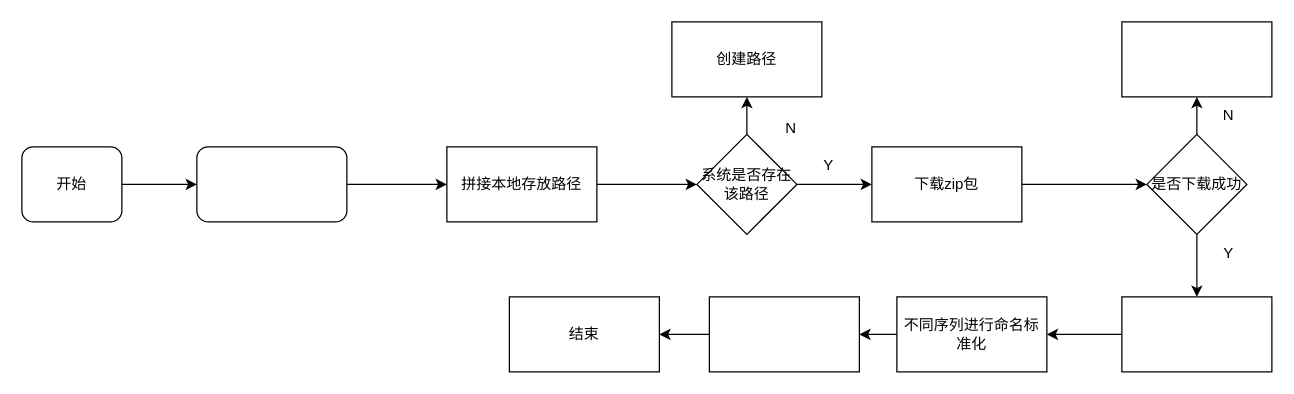
Image size: 1294x394. Some labels were removed from this diagram. Here are the shapes that lost their labels. From the top down, the box of each, then its label:
(1121, 21, 1272, 97): 异常结束
(196, 146, 347, 222): 获取线上存储配置
(708, 296, 859, 372): 排序后获取结果数据（下载的文件、数量、大小）
(1121, 296, 1272, 372): 解压并删除zip文件
